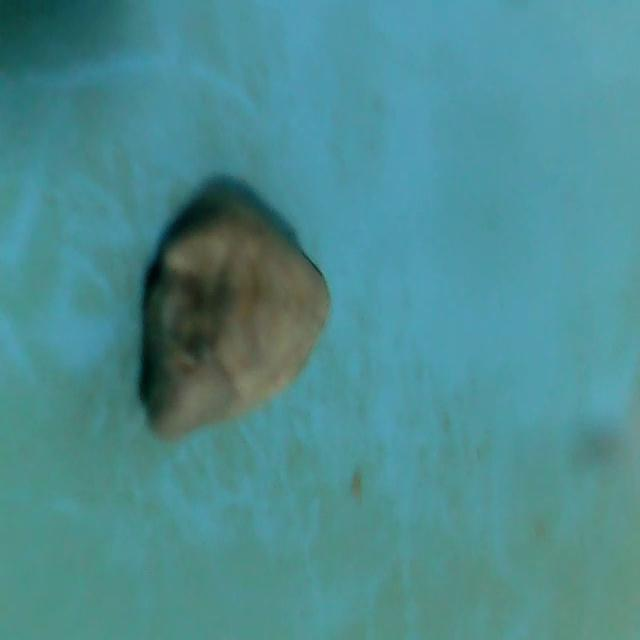rock: (135, 186, 335, 442)
